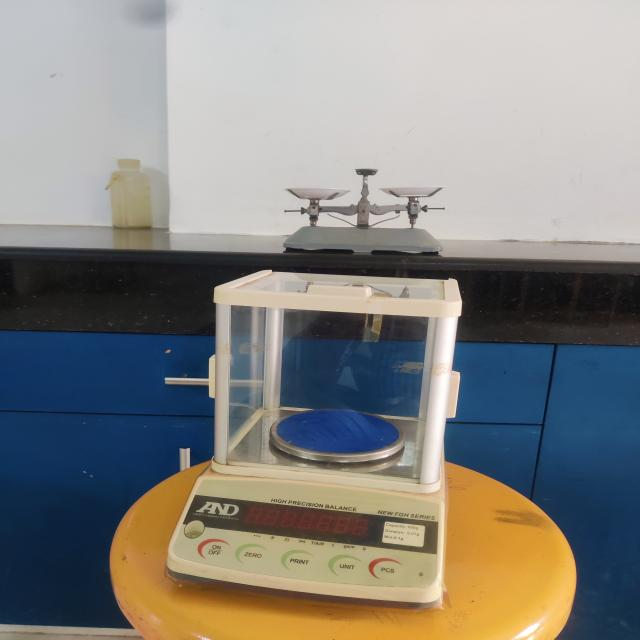Mechanical_Balance_Scale: (256, 138, 472, 268)
Precision_Weight_Scale: (154, 268, 485, 629)
